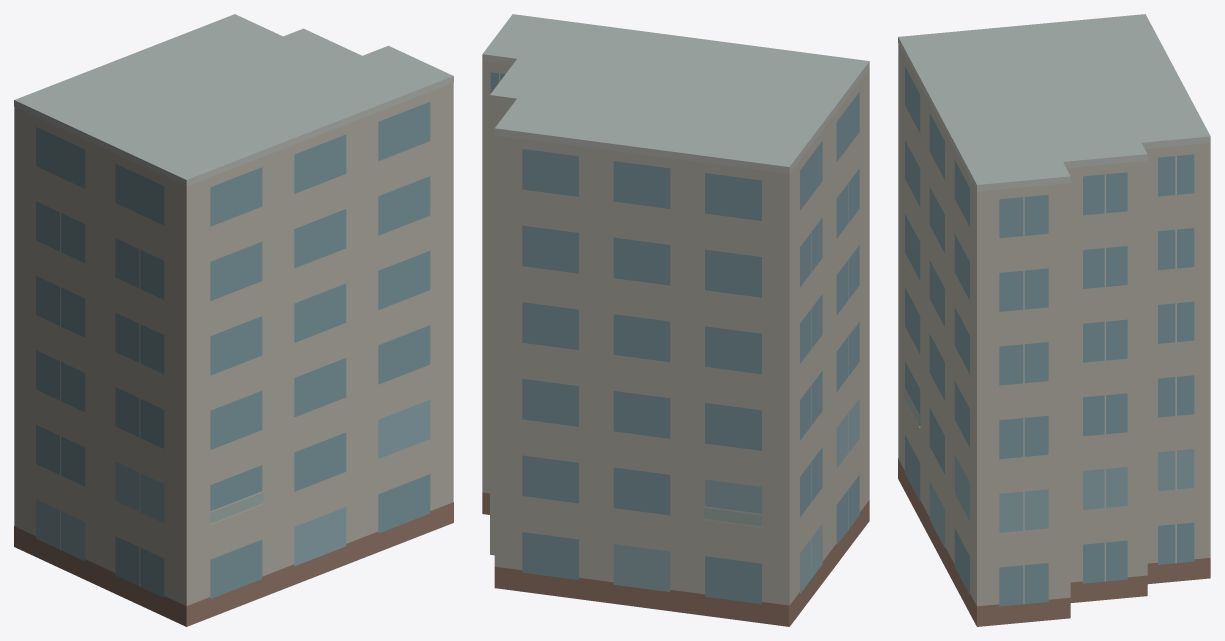
Rendered from survey-upis-32530841.glb.
3 views of the same model, side by side, from view 1: azimuth 30°, elevation 25°; view 2: azimuth 150°, elevation 25°; view 3: azimuth 270°, elevation 25° (orthographic). The views are drawn at different scales.
Parts seen in each view (by area): view 1: survey-upis-32530841.tmp; view 2: survey-upis-32530841.tmp; view 3: survey-upis-32530841.tmp.
Boxes of the visible parts, x1=… form: survey-upis-32530841.tmp: x1=14, y1=14, x2=453, y2=626; survey-upis-32530841.tmp: x1=482, y1=14, x2=869, y2=626; survey-upis-32530841.tmp: x1=898, y1=14, x2=1210, y2=626.
Size of the model in its own units: 13.78 by 16.6 by 10.65.
